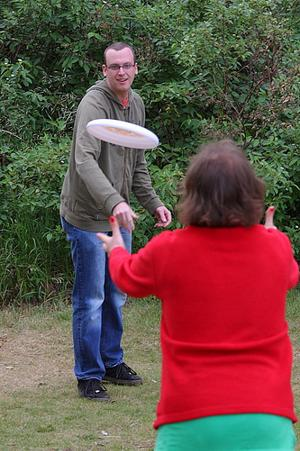person: (59, 40, 171, 403)
